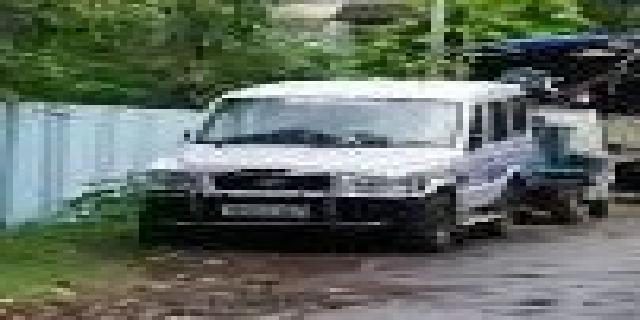Car: (141, 77, 539, 258)
